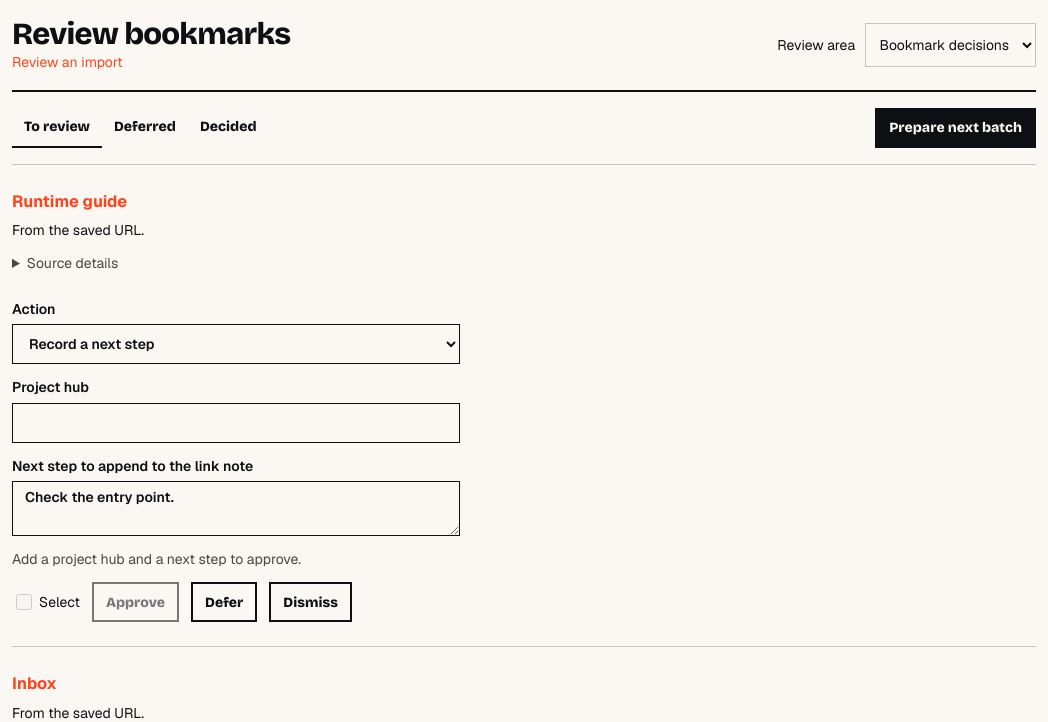
Test case: ReviewPage › sends the visible revisions and edited next step for selected rows only
This screenshot has width=1048, height=722.
Check: the button "Approve" is disabled, box [92,582,179,622]
Type "App" into the field labelled "Project hub" at (236, 423), box [12,403,460,443]
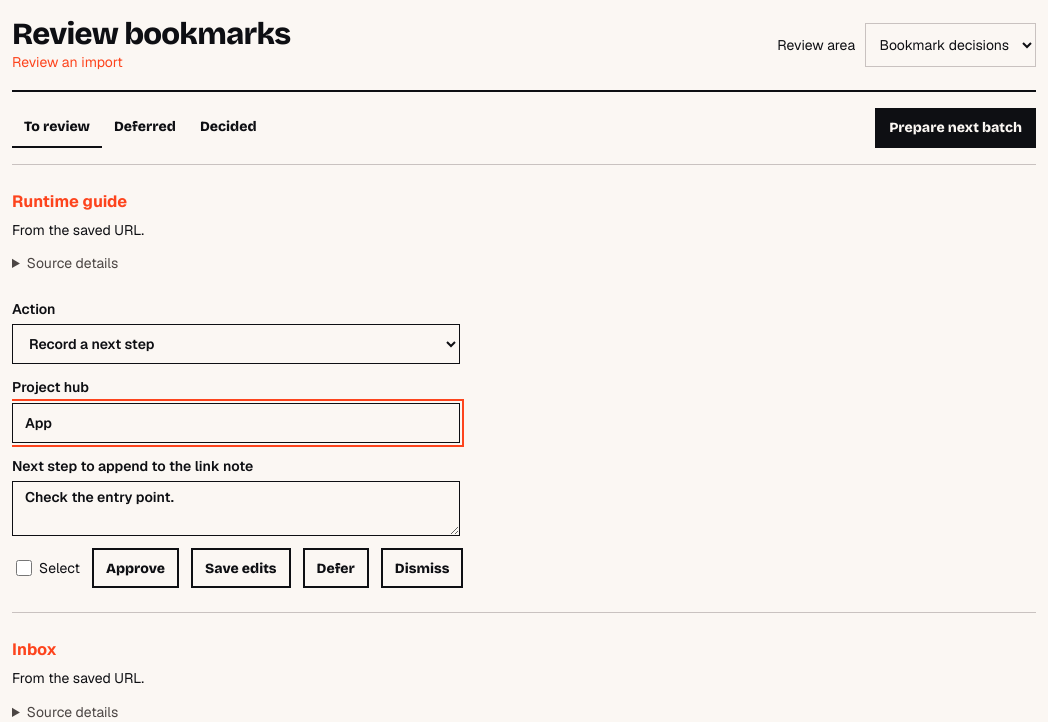
Click the checkbox named "Select Runtime guide for approval" at (24, 568), box [16,560,32,576]
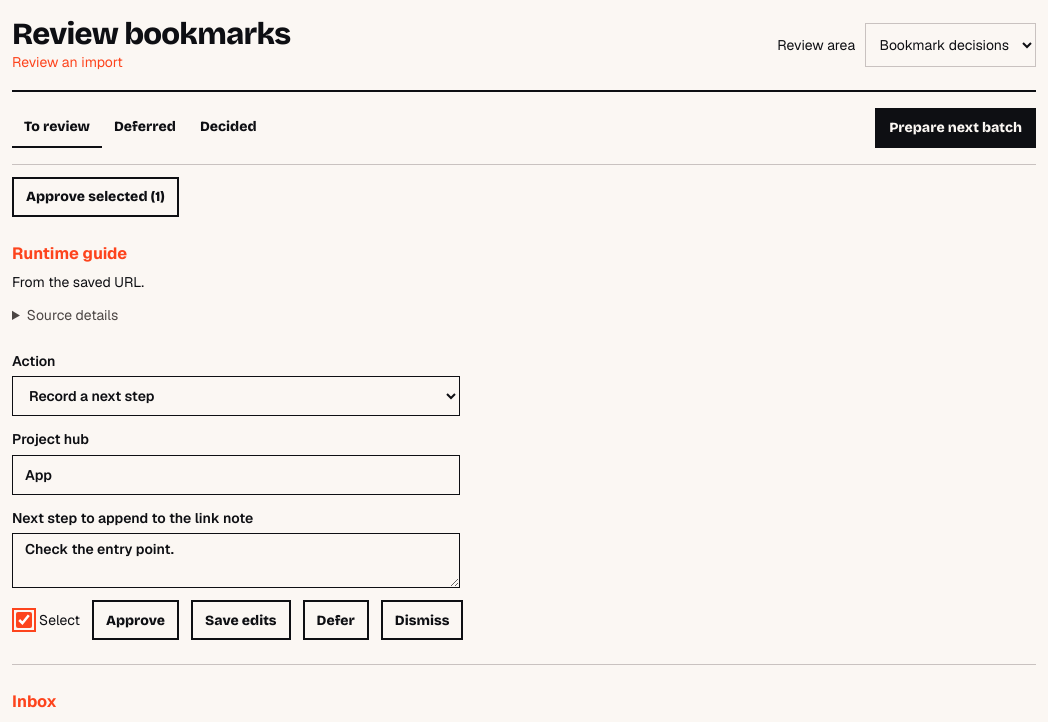
Click the button "Approve selected (1)" at (95, 197), box [12,177,179,217]
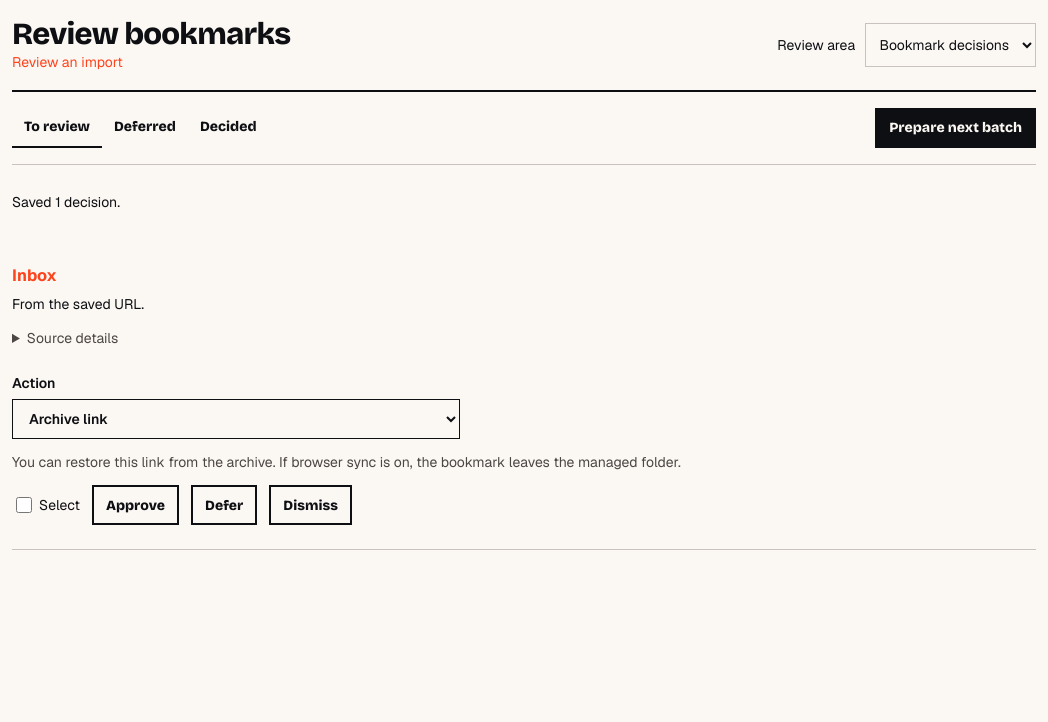
Check: the element "Inbox" is shown, box [12,239,1036,550]
Check: the text "Saved 1 decision." is shown, box [12,193,120,211]
